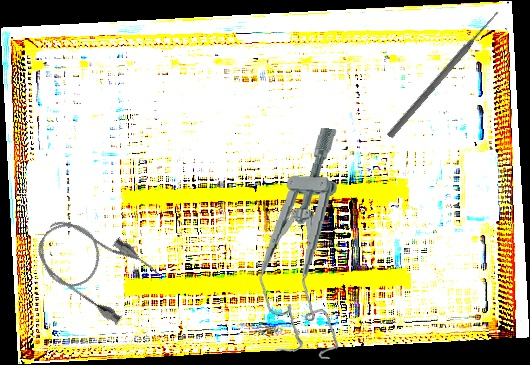Cannula: (24, 201, 164, 330)
Pusher: (385, 8, 503, 140)
Speculum: (254, 124, 354, 360)
